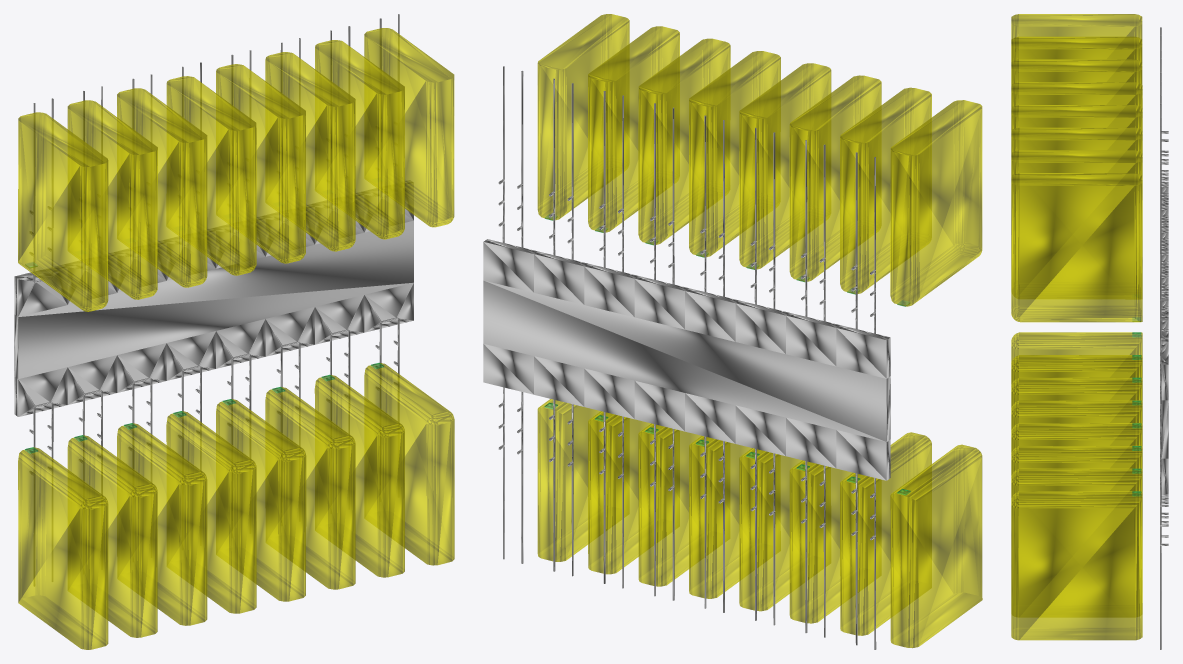
The model's file is greenhouse_mini.obj.
3 renders of one model, left to right at view 1: azimuth 30°, elevation 25°; view 2: azimuth 150°, elevation 25°; view 3: azimuth 270°, elevation 25°, orthographic. The views are drawn at different scales.
Parts seen in each view (by area): view 1: New_object; view 2: New_object; view 3: New_object.
Part boxes in pixels (x1,y1,x2,y2): New_object: (14,14,454,649); New_object: (483,14,982,649); New_object: (1011,14,1168,649).
Bounding box in the file's own units: 12.42 × 14 × 4.4.
